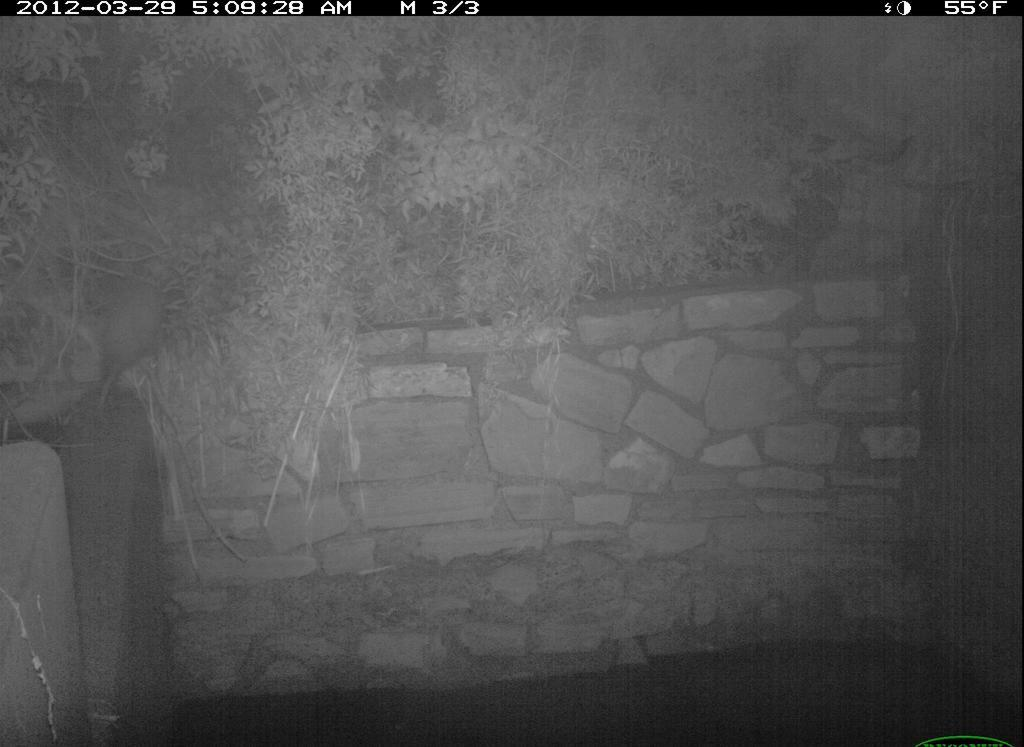opossum: (89, 278, 171, 440)
